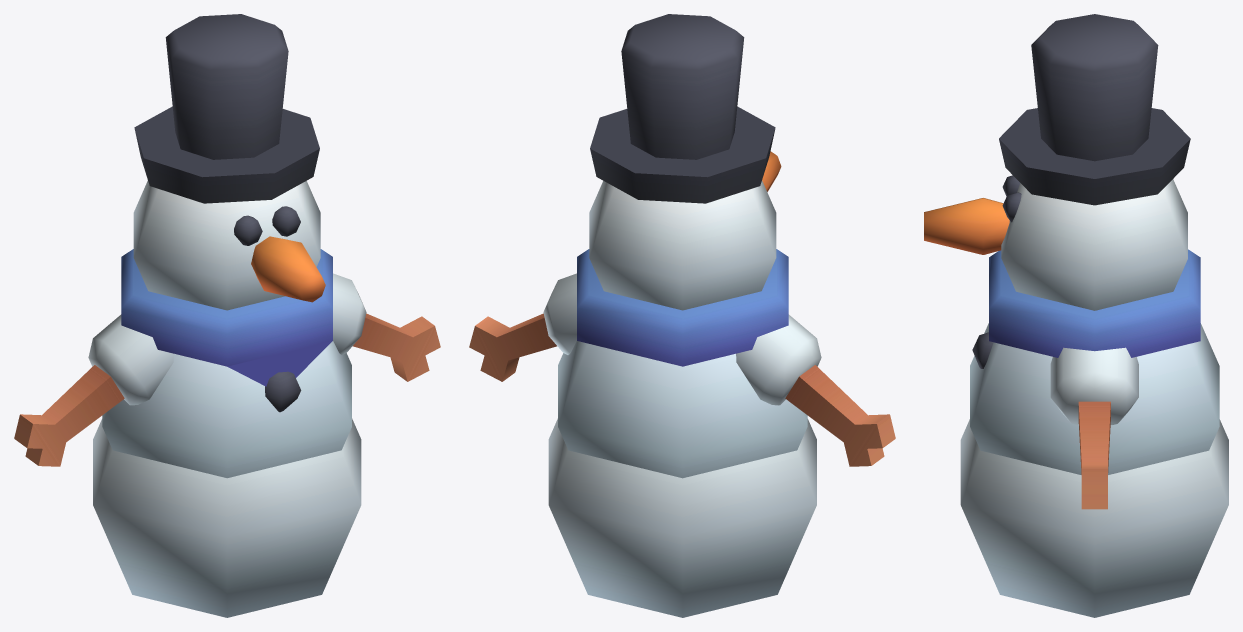
Rendered from kenney-holiday-snowman-hat.glb.
The picture shows the model from 3 angles, left to right: view 1: azimuth 30°, elevation 25°; view 2: azimuth 150°, elevation 25°; view 3: azimuth 270°, elevation 25°; orthographic projection.
Visible parts, largest first — view 1: snowman-hat; view 2: snowman-hat; view 3: snowman-hat.
Boxes of the visible parts, x1,y1,x2,y2 form: snowman-hat: (14,14,440,617); snowman-hat: (469,14,895,617); snowman-hat: (924,14,1228,617).
Size of the model in its own units: 1.08 by 1.36 by 0.6883.
1 material, 1 textured.
